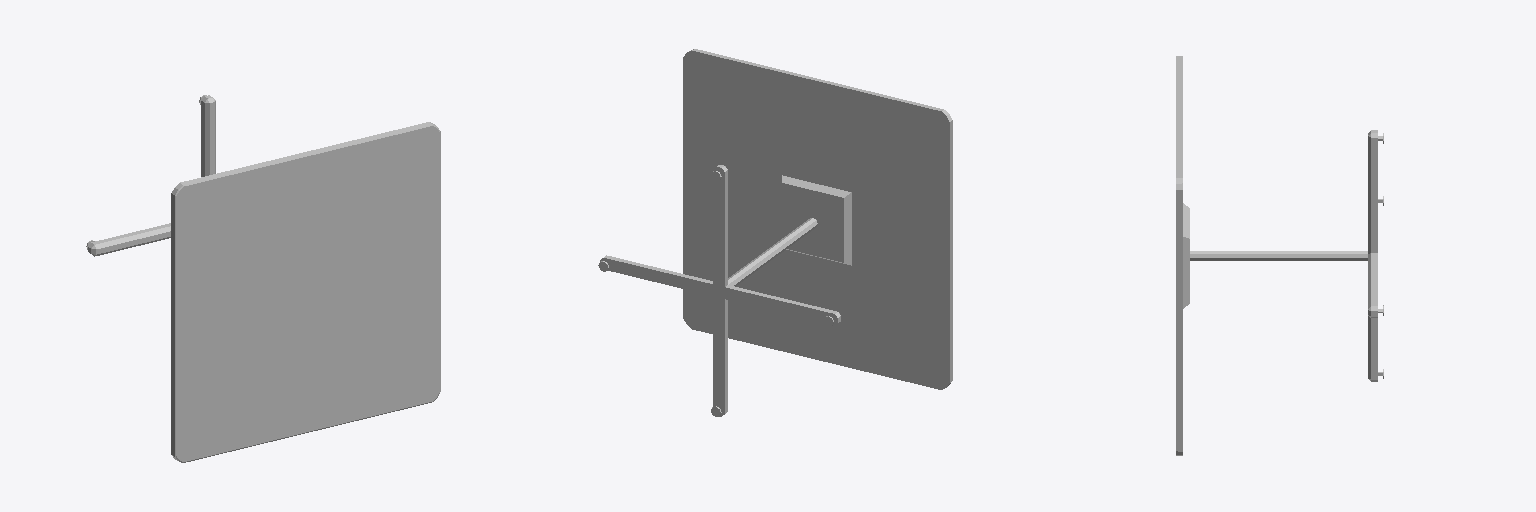
File: table_cafeteria2.obj
3 renders of one model, left to right at view 1: azimuth 30°, elevation 25°; view 2: azimuth 150°, elevation 25°; view 3: azimuth 270°, elevation 25°, orthographic.
Parts seen in each view (by area): view 1: table_cafeteria2; view 2: table_cafeteria2; view 3: table_cafeteria2.
Boxes of the visible parts, x1,y1,x2,y2 form: table_cafeteria2: [86, 95, 440, 462]; table_cafeteria2: [598, 49, 952, 416]; table_cafeteria2: [1176, 56, 1383, 455].
Bounding box in the file's own units: 53.15 × 53.15 × 36.01.